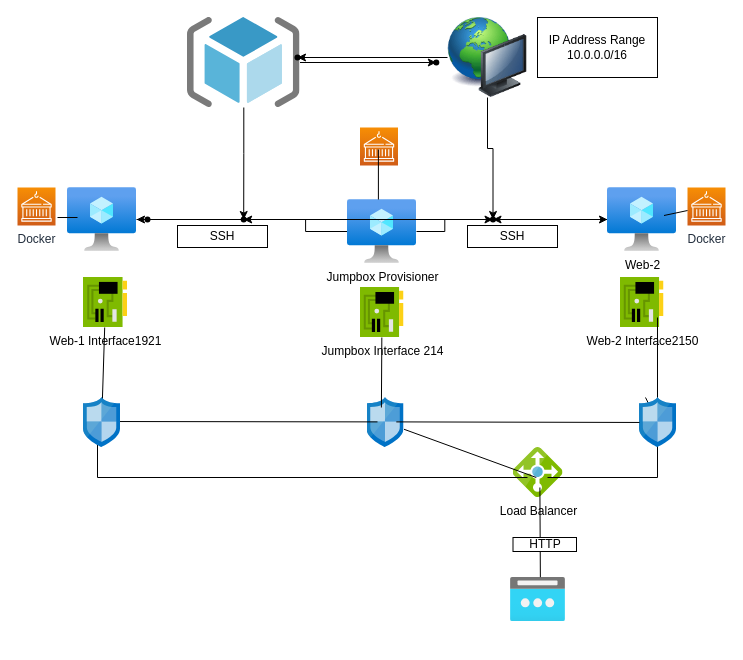
This 743x660 diagram has some shape labels left out. Here are the shapes that lost their labels. From the top down, the box of each, then its label:
(187, 17, 300, 107): Redteam Resource Group
(447, 17, 527, 97): Rednet Virtual Network
(359, 126, 398, 166): Ansible
(67, 187, 136, 251): Web-1
(366, 397, 404, 447): Redteam Securiy
(510, 577, 565, 621): Frontend-IP 138.91.240.43
